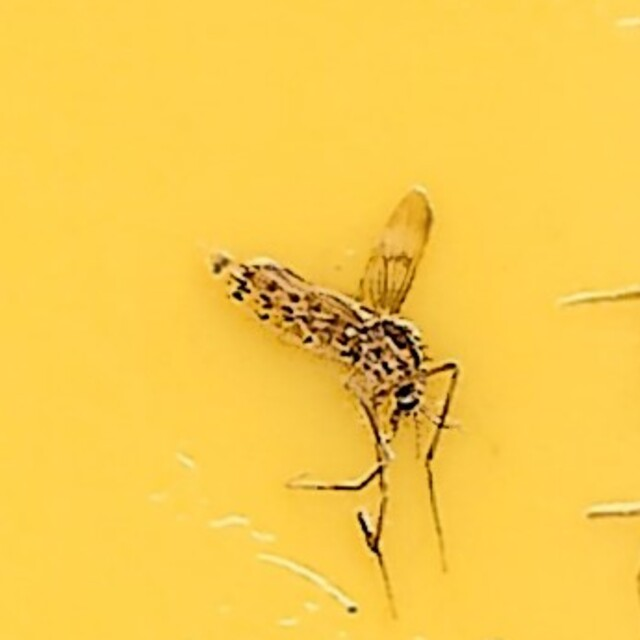Nematocera: (186, 186, 454, 454)
